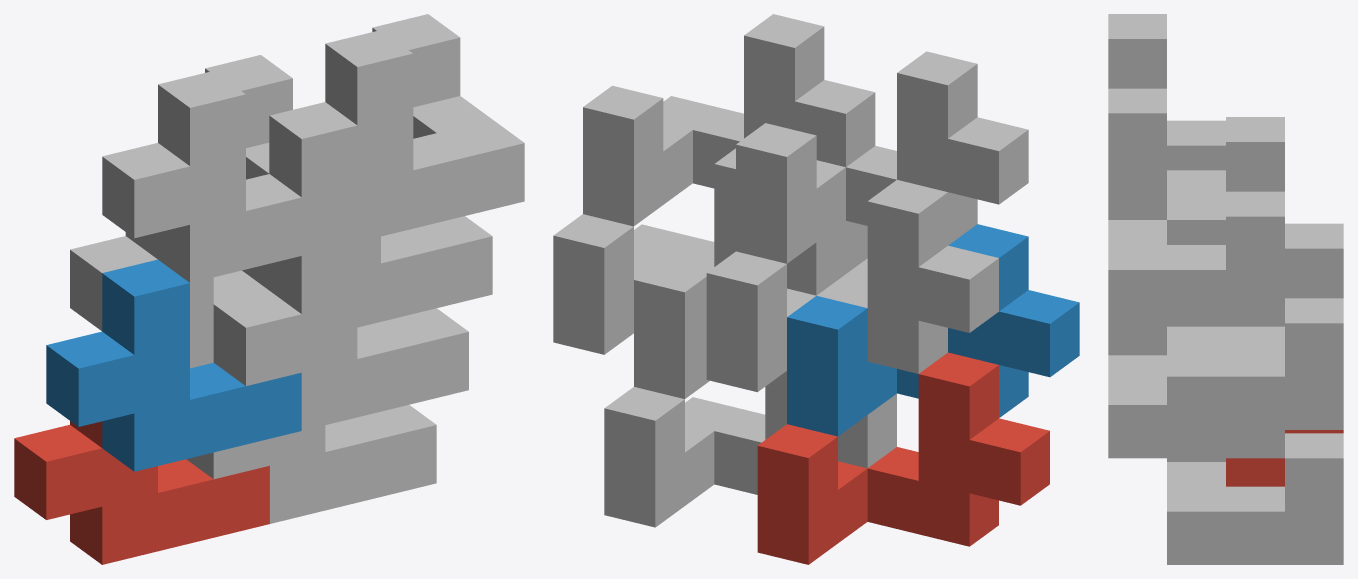
File: tiling.obj
3 views of the same model, side by side, from view 1: azimuth 30°, elevation 25°; view 2: azimuth 150°, elevation 25°; view 3: azimuth 270°, elevation 25° (orthographic). The views are drawn at different scales.
Visible parts, largest first — view 1: copy_1_domain_8, copy_1_domain_4, copy_1_domain_2, copy_1_domain_6, copy_1_domain_1, copy_1_domain_5, copy_1_domain_7, copy_1_domain_3; view 2: copy_1_domain_1, copy_1_domain_4, copy_1_domain_3, copy_1_domain_8, copy_1_domain_2, copy_1_domain_5, copy_1_domain_7, copy_1_domain_6; view 3: copy_1_domain_8, copy_1_domain_7, copy_1_domain_5, copy_1_domain_6, copy_1_domain_4, copy_1_domain_3, copy_1_domain_1.
Part boxes in pixels (x1,y1,x2,y2): copy_1_domain_8: [269, 14, 524, 242]; copy_1_domain_4: [102, 55, 357, 282]; copy_1_domain_2: [46, 259, 301, 471]; copy_1_domain_6: [213, 242, 468, 430]; copy_1_domain_1: [14, 421, 269, 564]; copy_1_domain_5: [186, 405, 436, 523]; copy_1_domain_7: [242, 216, 492, 327]; copy_1_domain_3: [70, 232, 268, 368]; copy_1_domain_1: [757, 352, 1049, 564]; copy_1_domain_4: [736, 51, 1028, 263]; copy_1_domain_3: [706, 180, 998, 392]; copy_1_domain_8: [583, 14, 875, 226]; copy_1_domain_2: [787, 224, 1079, 436]; copy_1_domain_5: [604, 371, 896, 527]; copy_1_domain_7: [553, 148, 845, 354]; copy_1_domain_6: [634, 221, 867, 398]; copy_1_domain_8: [1108, 88, 1284, 323]; copy_1_domain_7: [1167, 195, 1343, 429]; copy_1_domain_5: [1167, 433, 1343, 564]; copy_1_domain_6: [1108, 323, 1284, 458]; copy_1_domain_4: [1108, 14, 1284, 195]; copy_1_domain_3: [1167, 120, 1343, 326]; copy_1_domain_1: [1226, 430, 1343, 486].
Bounding box in the file's own units: 8 × 8 × 4.
